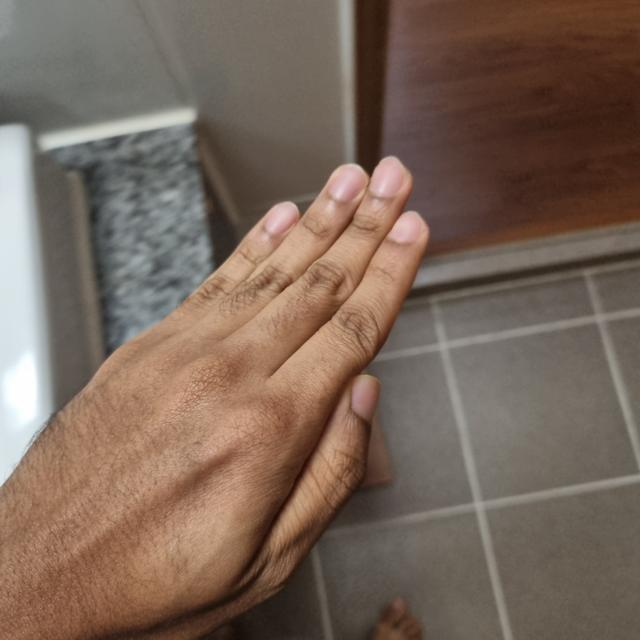Paper: (0, 166, 421, 638)
